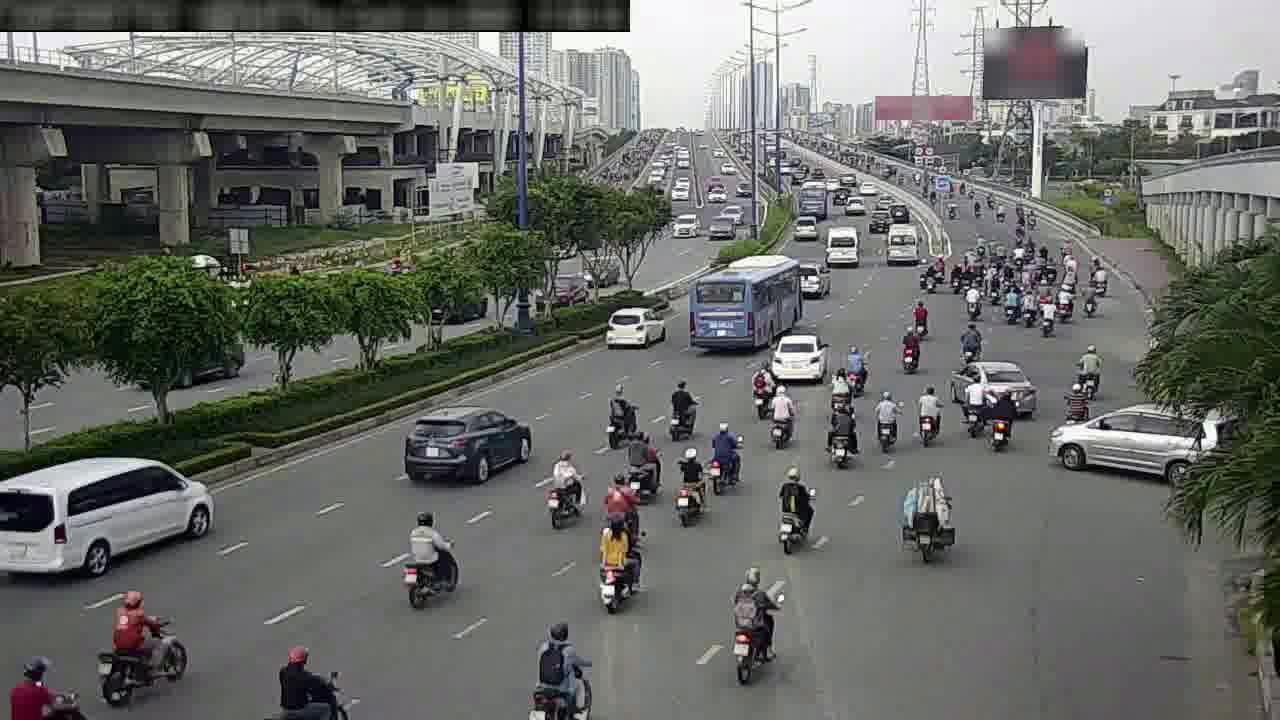car: (1053, 395, 1216, 488), (404, 402, 528, 481), (967, 361, 1039, 414), (771, 334, 825, 384), (605, 301, 661, 347), (793, 262, 829, 297)
motorbike: (94, 587, 190, 702), (396, 508, 465, 606), (528, 621, 599, 707), (270, 639, 354, 711), (727, 567, 780, 677), (7, 643, 77, 720), (905, 473, 954, 567), (592, 522, 641, 608), (771, 460, 817, 550), (540, 446, 588, 527), (668, 445, 708, 524), (703, 416, 743, 492), (622, 428, 664, 500), (822, 395, 861, 470), (598, 473, 637, 536), (599, 383, 637, 447), (662, 374, 699, 439), (911, 381, 944, 448), (763, 382, 797, 447), (957, 373, 989, 439), (870, 387, 901, 455), (747, 356, 776, 416), (838, 339, 867, 393), (988, 390, 1012, 453), (823, 359, 851, 412), (955, 320, 982, 369), (1061, 384, 1092, 422), (1079, 341, 1102, 391), (1034, 294, 1058, 339), (900, 326, 922, 373), (959, 281, 983, 321), (1053, 281, 1075, 322), (982, 266, 1002, 302), (1001, 282, 1017, 324), (1020, 288, 1036, 330), (911, 295, 929, 331), (946, 259, 964, 295), (1094, 257, 1111, 293), (1083, 283, 1099, 321)
passenger_car: (18, 455, 212, 568), (693, 253, 790, 343), (825, 224, 858, 264), (885, 224, 918, 264)
